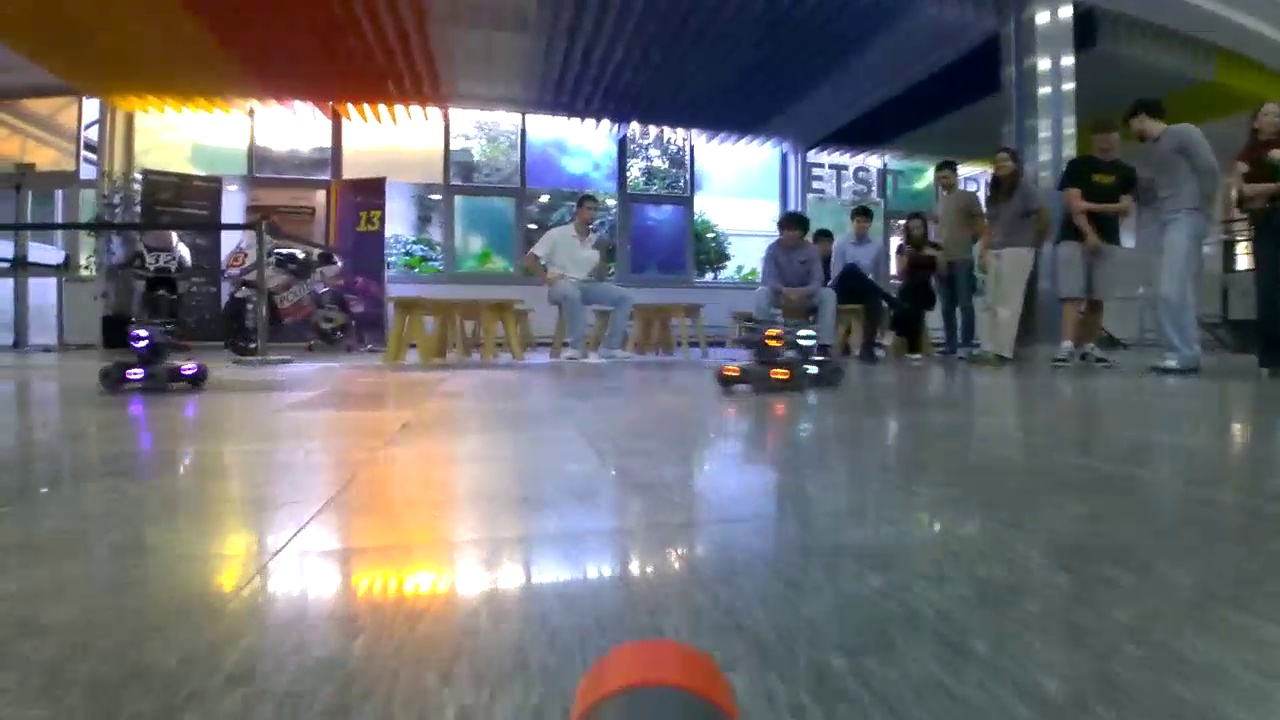robot: (100, 318, 208, 390), (715, 318, 798, 393), (790, 318, 841, 398)
